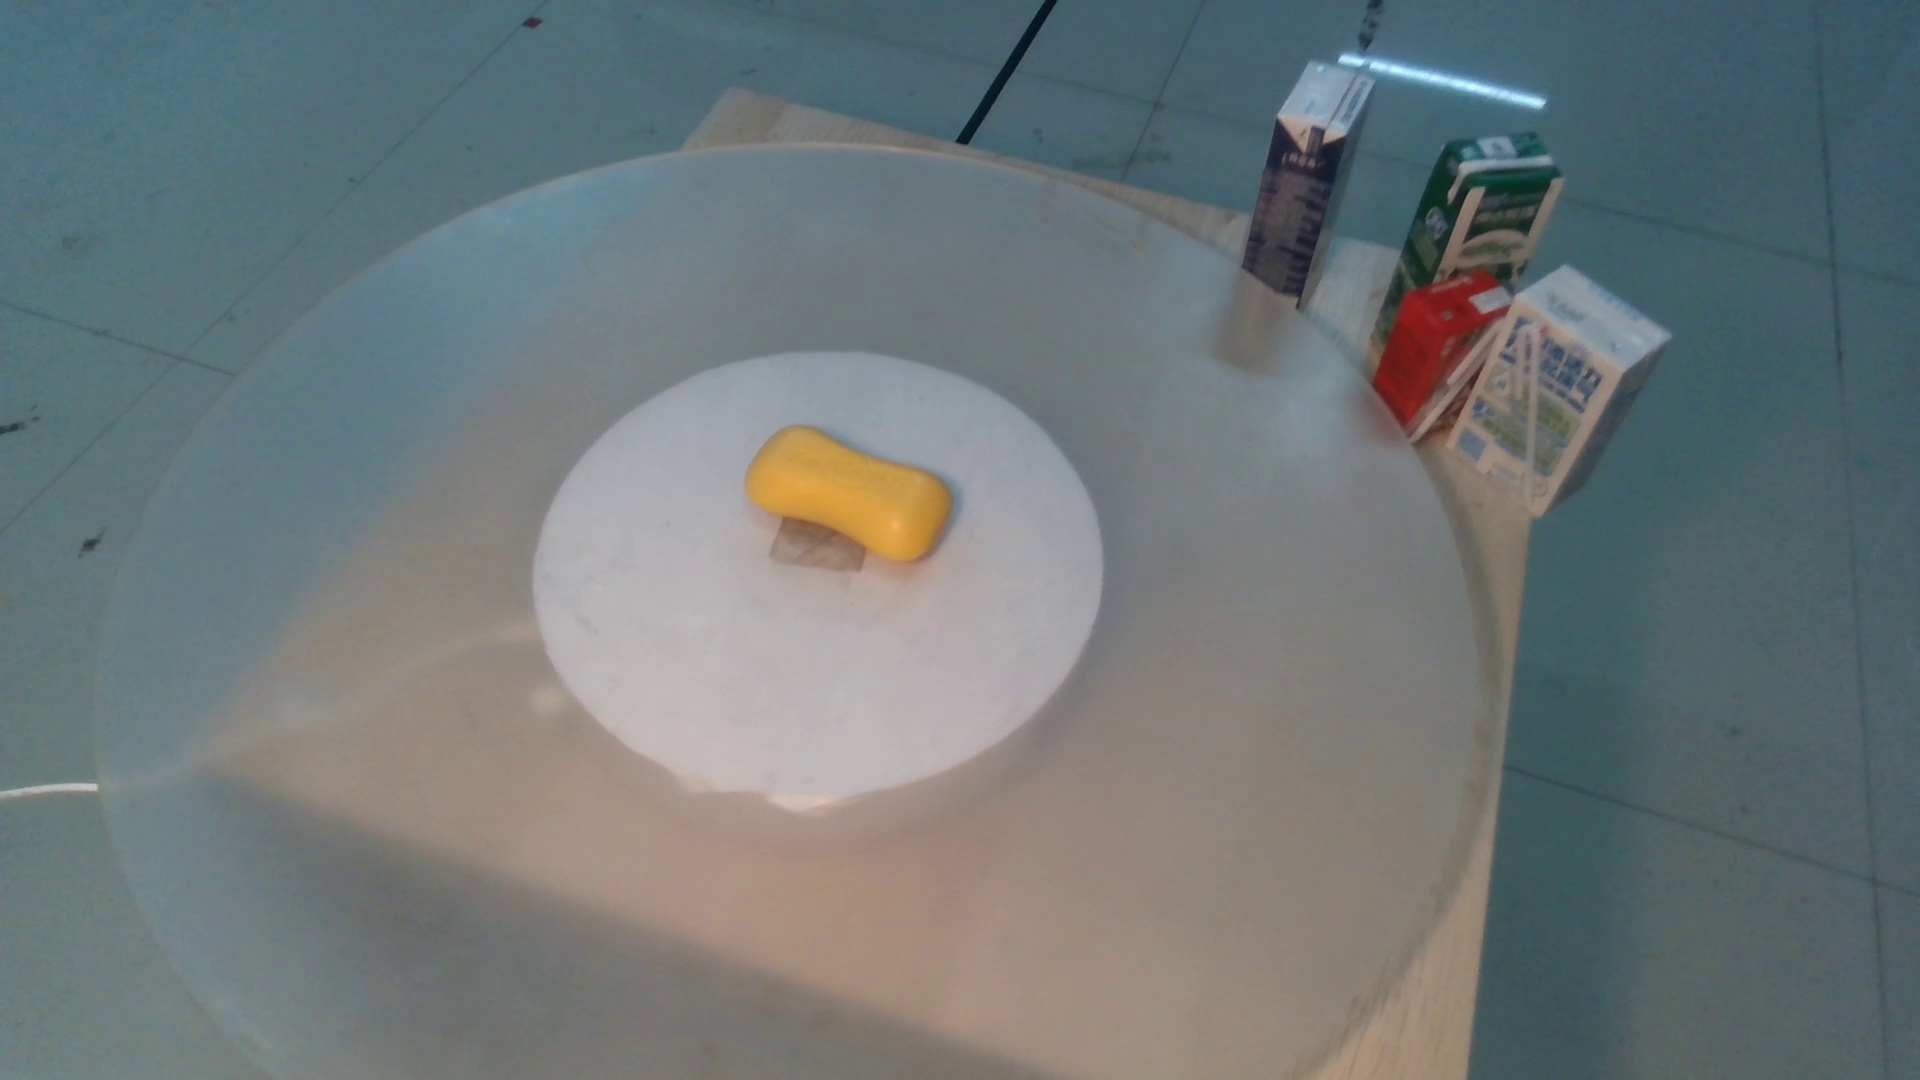CA003_1: (727, 409, 992, 576)
